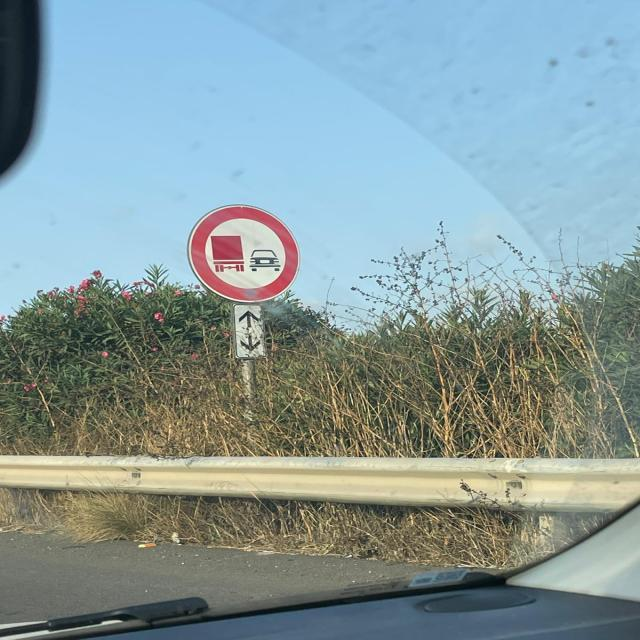forb_overtake_trucks: (187, 203, 302, 303)
